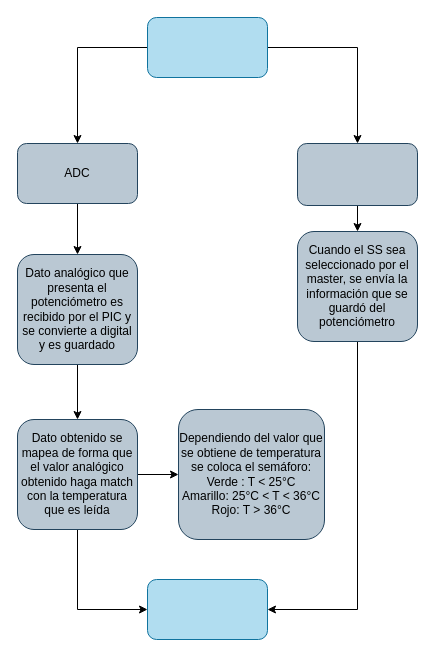
The diagram is 435 pixels wide and 657 high, and some of its shapes have lost their labels. The centre of each missing label's shape, as x and y in pixels:
"END" belongs at (207,609).
"INICIO" belongs at (207,47).
"SPI SLAVE 3" belongs at (357,174).
